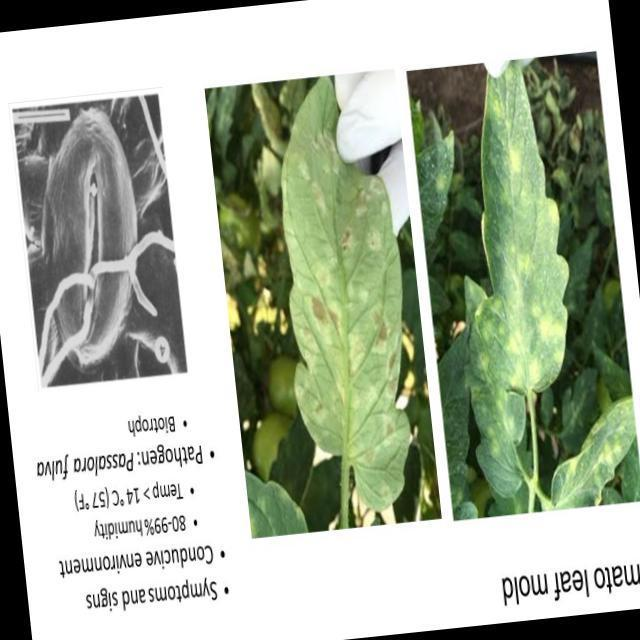Mosaic Virus: (276, 117, 414, 510), (462, 58, 572, 394), (454, 300, 528, 488), (540, 396, 640, 511)
